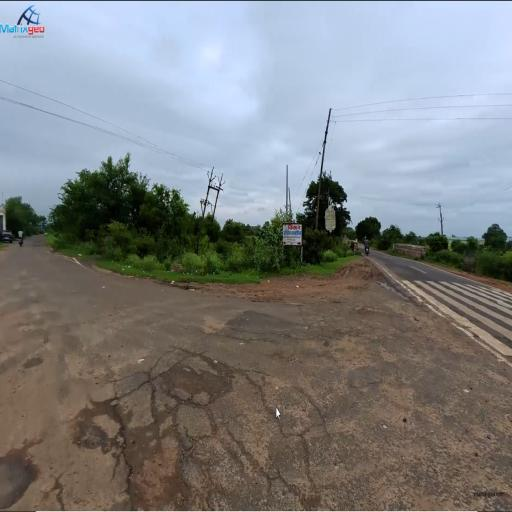alligator_crack: (80, 331, 370, 491)
